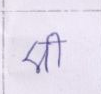i_matra: (48, 32, 65, 67)
